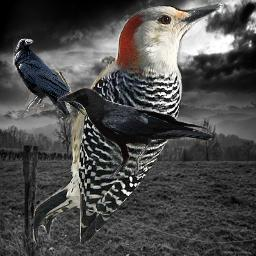Crow: (57, 86, 212, 179), (13, 38, 94, 115)
Woodpecker: (33, 2, 225, 245)
